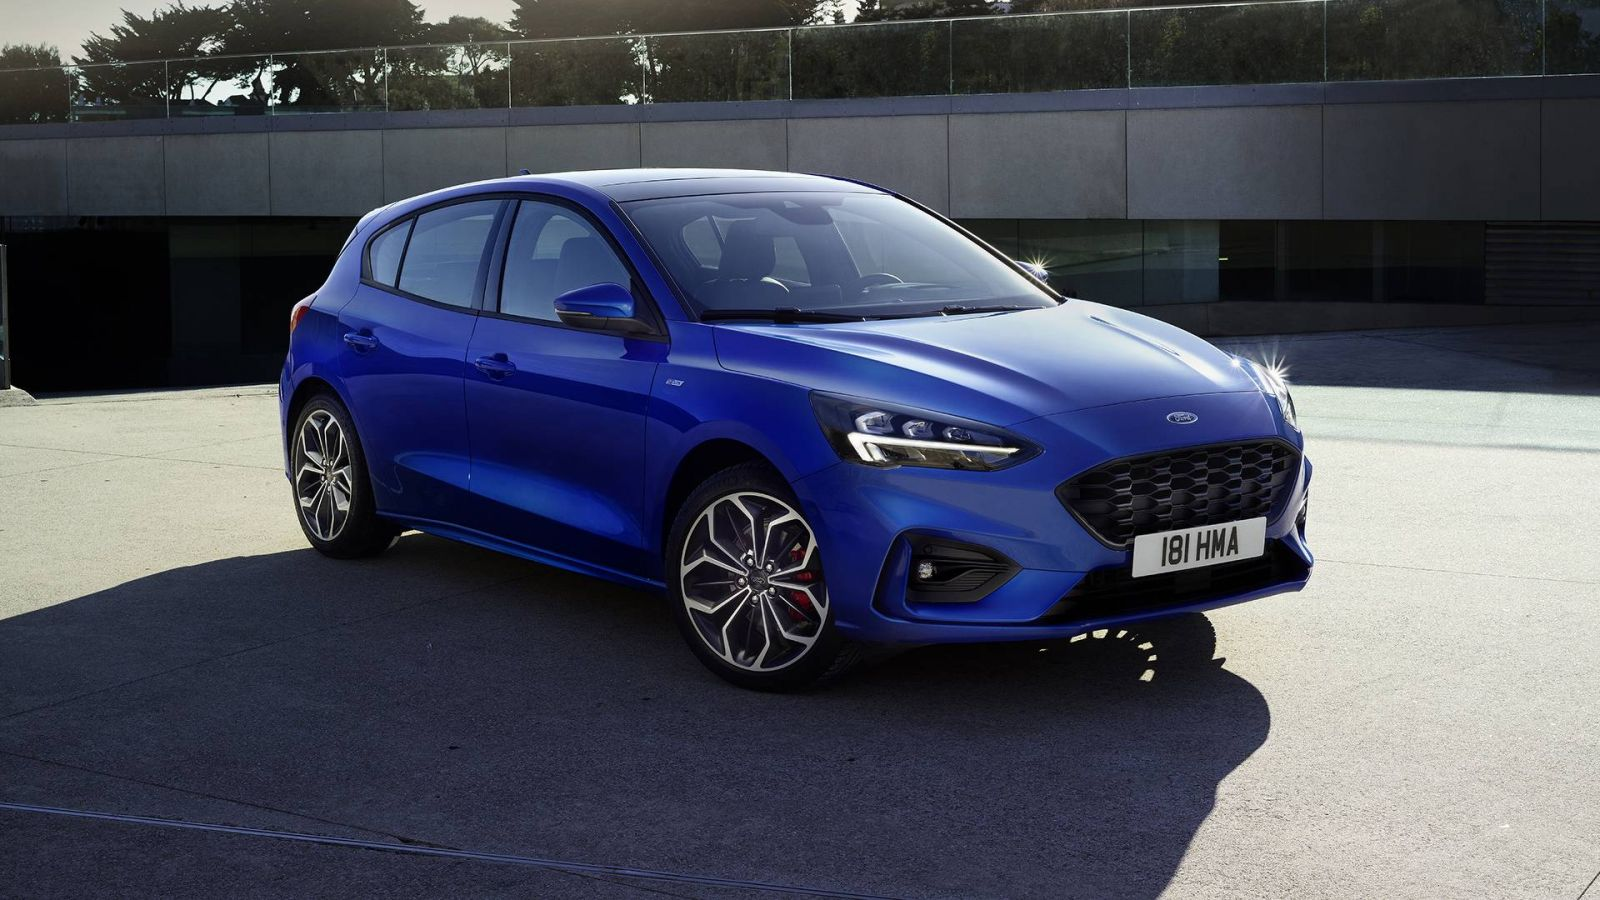sedan: (268, 171, 1324, 689)
